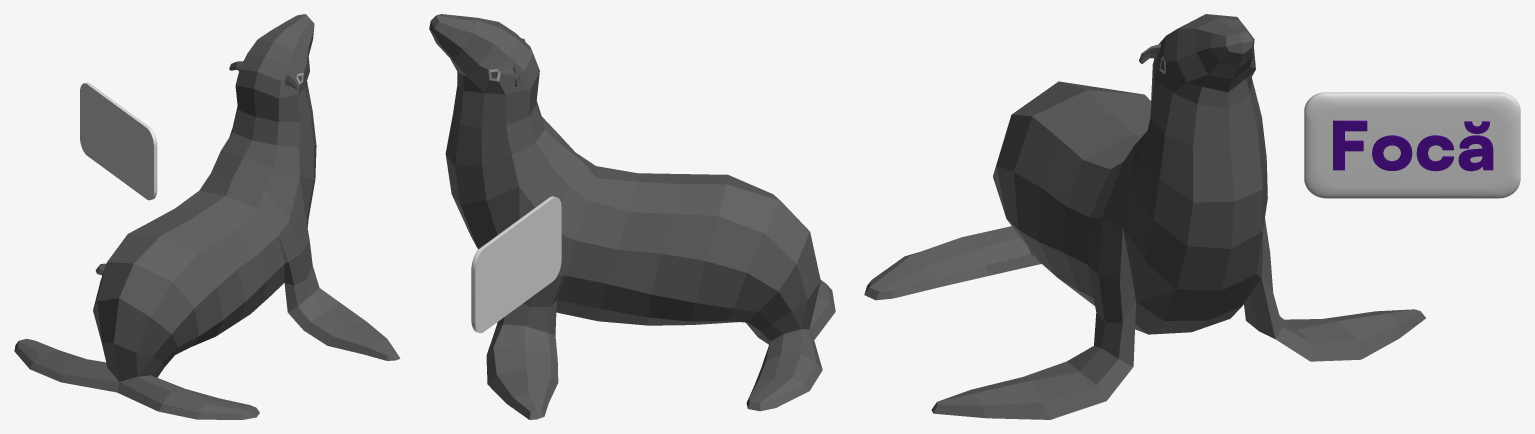
The model's file is Foca scaled.fbx.
3 views of the same model, side by side, from view 1: azimuth 30°, elevation 25°; view 2: azimuth 150°, elevation 25°; view 3: azimuth 270°, elevation 25° (orthographic). The views are drawn at different scales.
Parts seen in each view (by area): view 1: SeaLion.006, Cube.008; view 2: SeaLion.006, Cube.008; view 3: SeaLion.006, Cube.008, Text.008.
Boxes of the visible parts, <box> form: SeaLion.006: <box>14,14,400,419</box>; Cube.008: <box>80,82,157,200</box>; SeaLion.006: <box>429,14,835,419</box>; Cube.008: <box>471,196,561,333</box>; SeaLion.006: <box>864,14,1425,419</box>; Cube.008: <box>1304,92,1520,198</box>; Text.008: <box>1333,120,1493,171</box>.
Bounding box in the file's own units: 0.1533 × 0.1286 × 0.1966.
